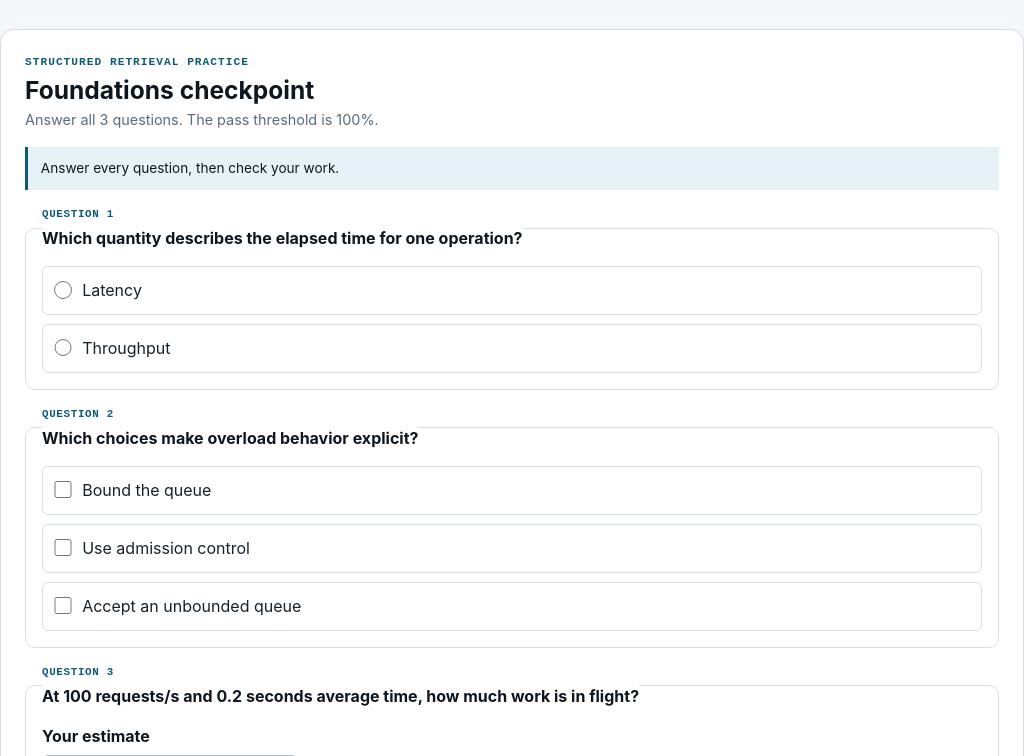
Test: QuizPanel › uses native controls and persists a correct result with explanations and concepts
expect the number of checkboxes is 3: met, box [54,481,72,498]; [54,539,72,556]; [54,597,72,614]
Click the radio button labelled "Latency" at (63, 290), box [54,281,72,298]
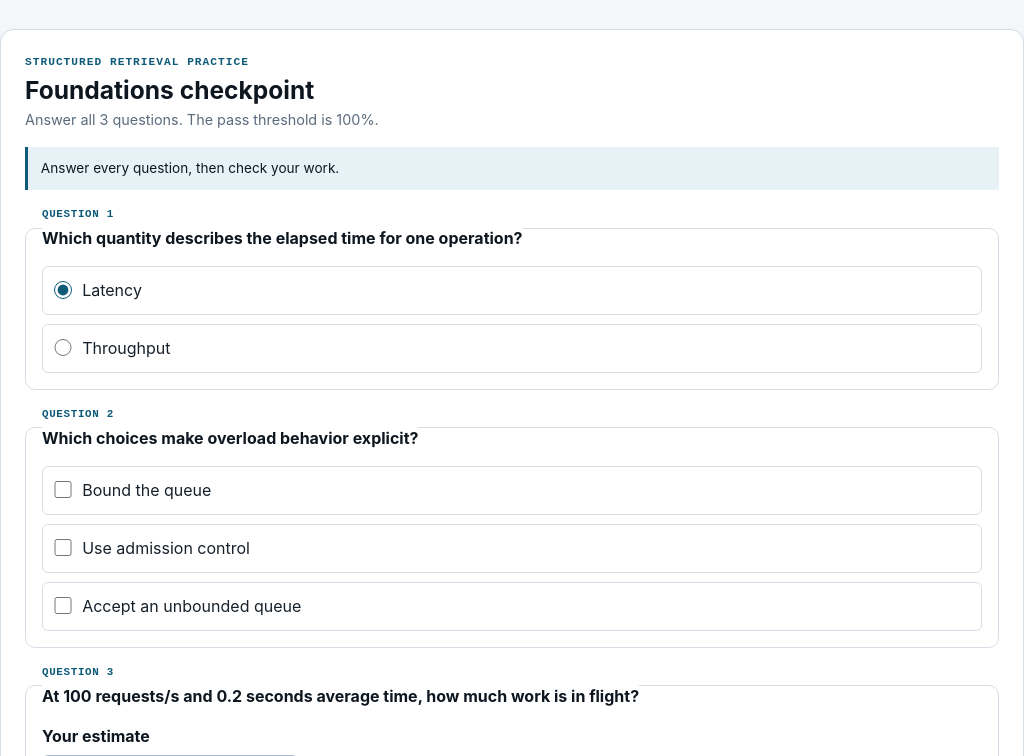
Click the checkbox labelled "Bound the queue" at (63, 490), box [54,481,72,498]
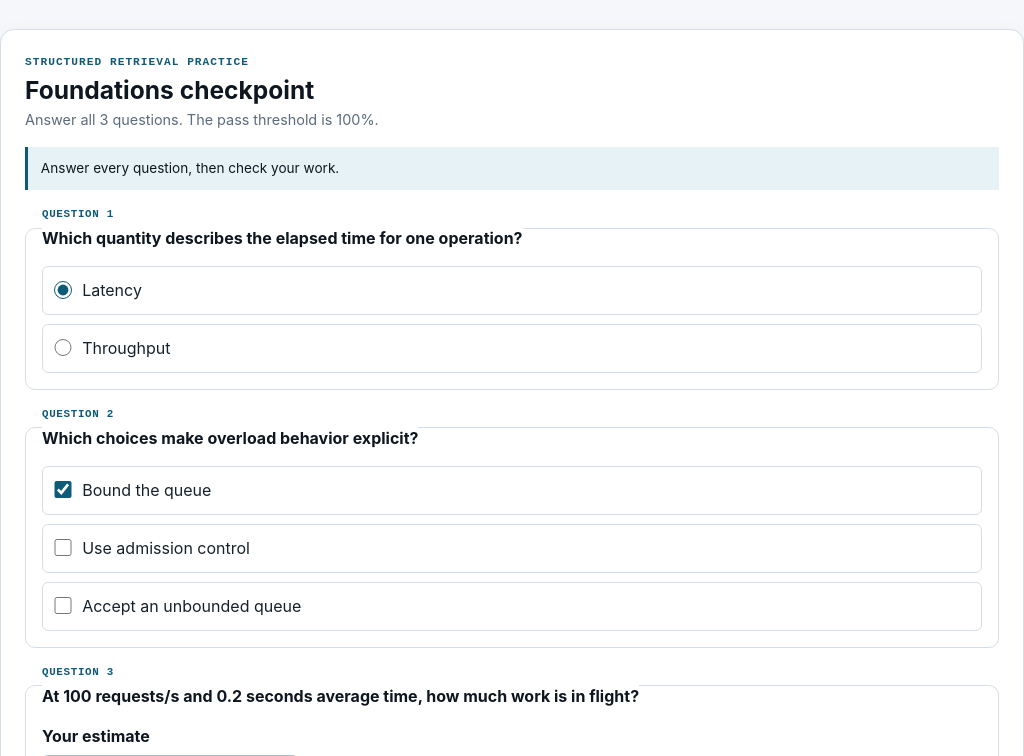
Click the checkbox labelled "Use admission control" at (63, 548), box [54,539,72,556]
(page scrolled)
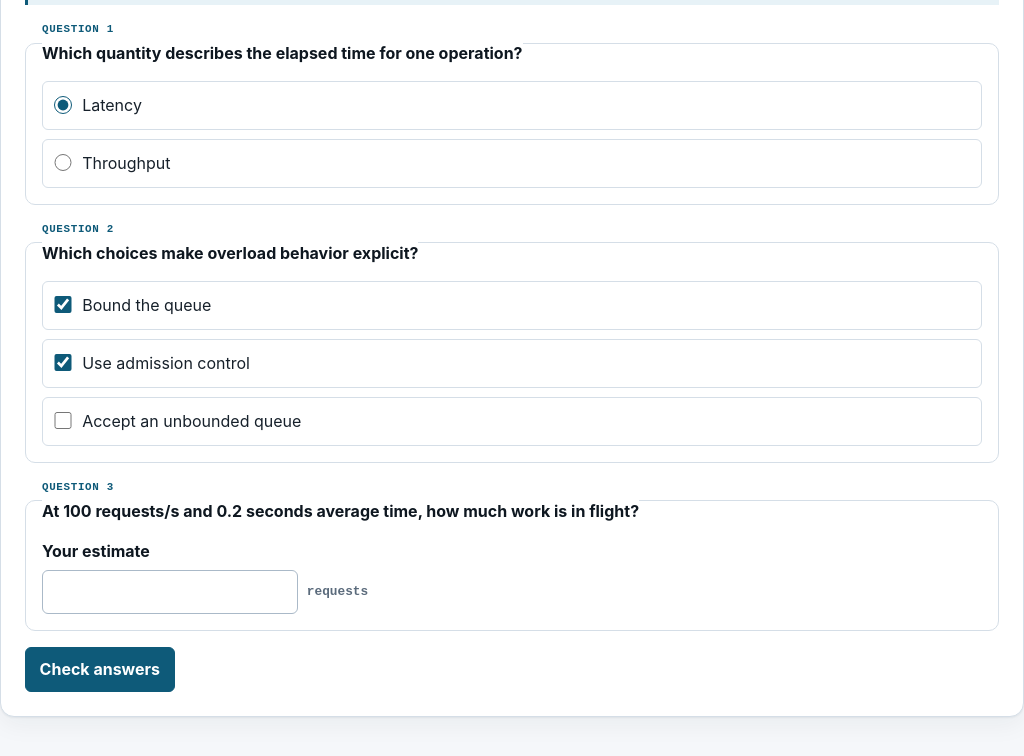
Type "20" into the number field at (170, 592), box [42,570,298,614]
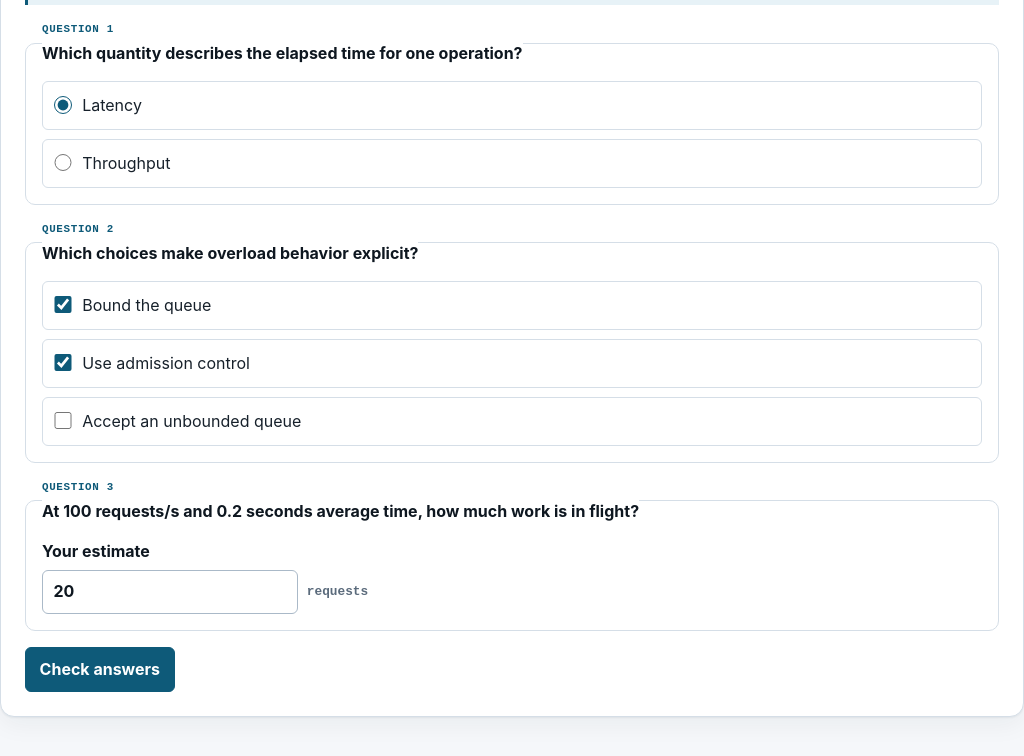
expect the button "Check answers" is enabled: met, box [25,647,175,692]
Submit the form named "Quiz answers"
(page scrolled)
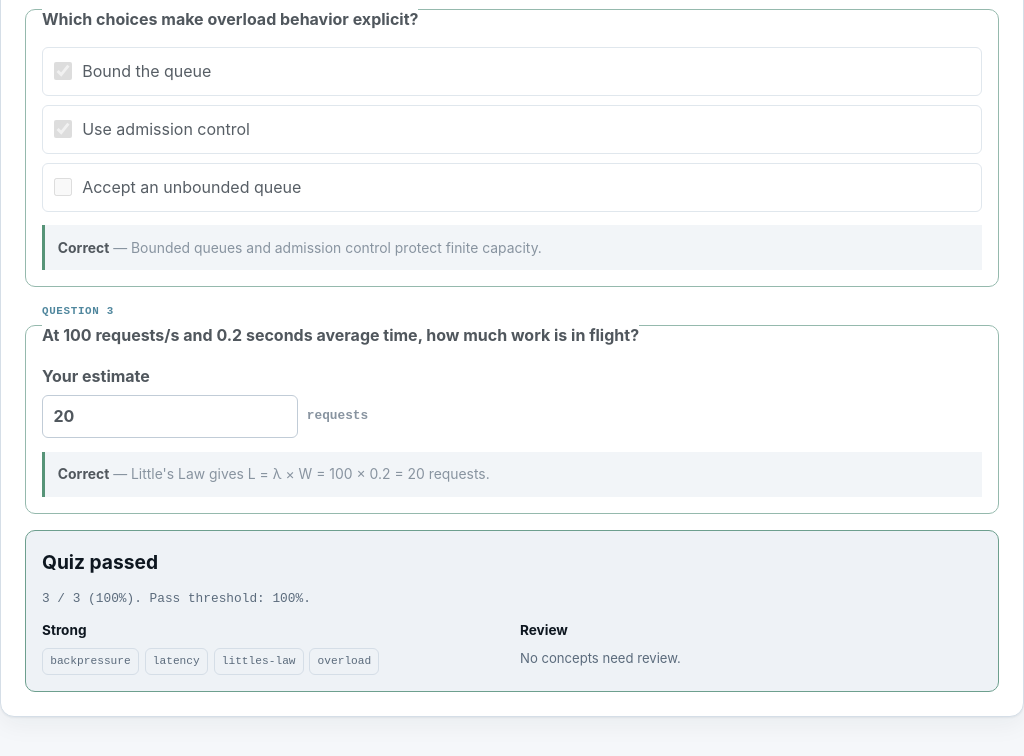
expect the heading "Quiz passed" is shown: met, box [42,550,158,574]
expect the text "3 / 3 (100%). Pass threshold: 100%." is shown: met, box [42,590,311,606]
expect the list item "backpressure" is shown: met, box [42,648,139,675]
